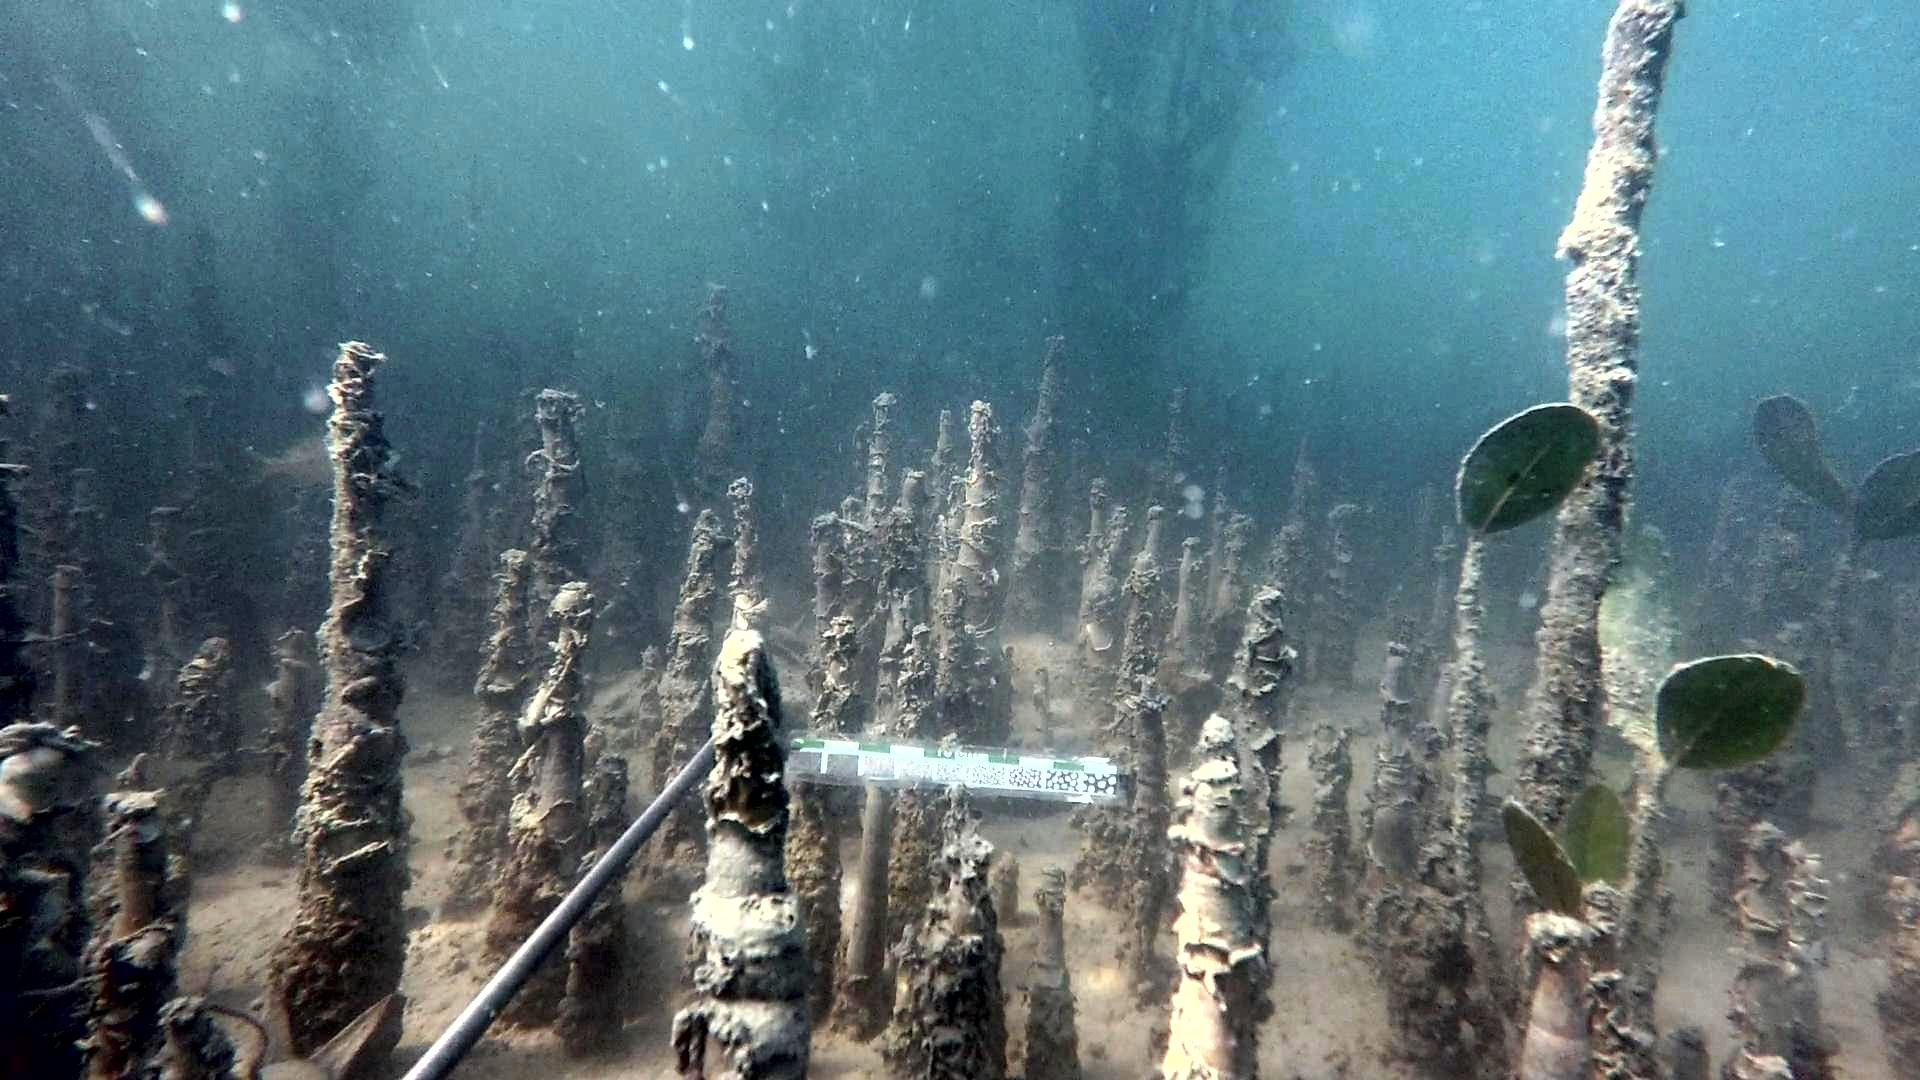gerres: (228, 427, 332, 491)
